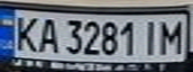1: (118, 18, 139, 56)
2: (78, 17, 103, 56)
3: (60, 17, 84, 56)
8: (100, 18, 121, 56)
A: (33, 15, 60, 54)
I: (139, 17, 163, 56)
K: (9, 12, 42, 53)
M: (157, 17, 190, 55)
